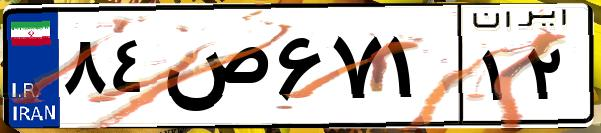1: (385, 28, 445, 110), (475, 38, 525, 113)
2: (525, 38, 570, 115)
4: (110, 28, 158, 98)
6: (270, 28, 330, 110)
7: (330, 28, 385, 110)
8: (57, 26, 110, 100)
ص: (158, 20, 270, 120)
